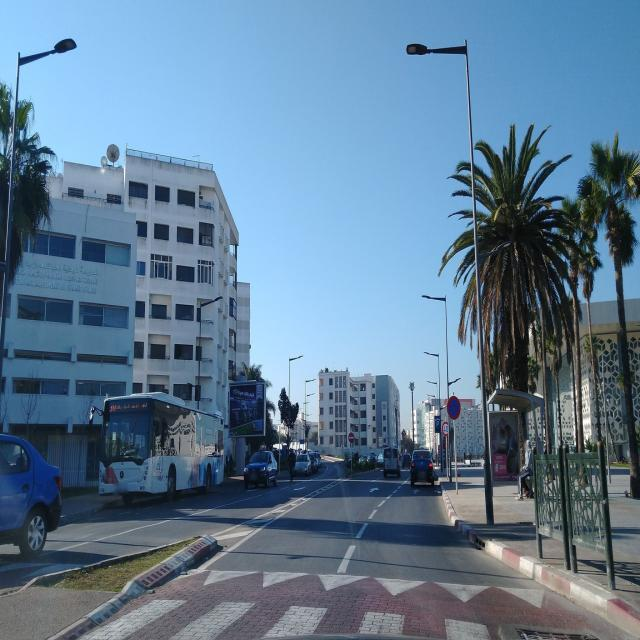forb_stopping: (446, 395, 461, 421)
